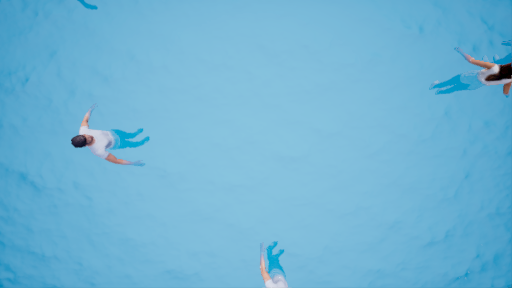person: (66, 106, 154, 170), (442, 45, 512, 100), (250, 234, 300, 288)
